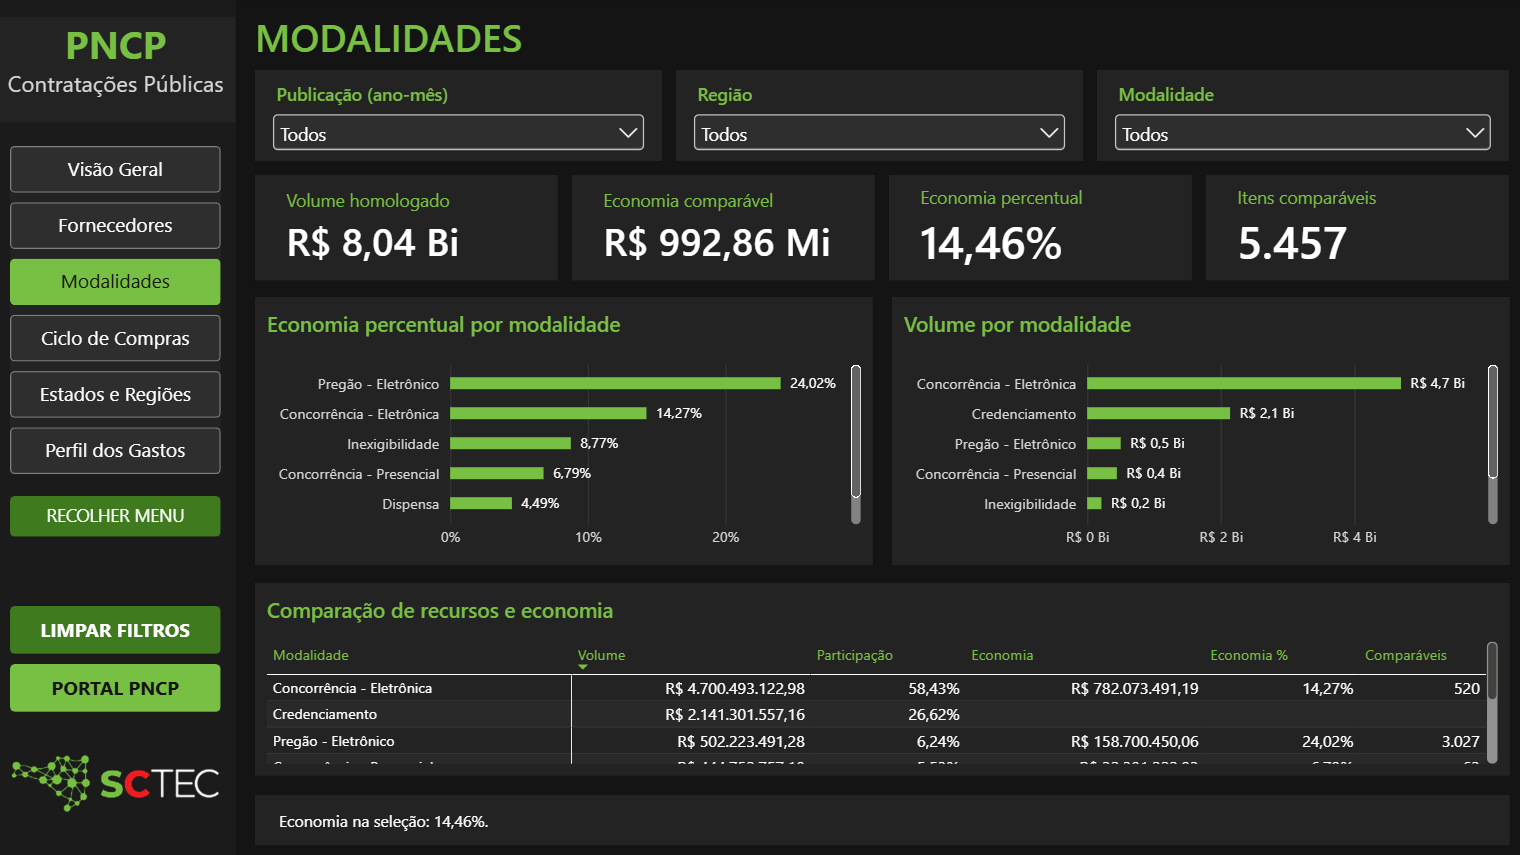

The page's visual inventory and layout, read from the dashboard file:
{"tool":"powerbi","page":{"name":"Modalidades","canvas":[1280,720],"ordinal":2},"visuals":[{"type":"shape","box":[0,0,200,720],"z":0},{"type":"textbox","box":[0,16,200,88],"z":1000},{"type":"pageNavigator","box":[12,124,176,274],"z":2000},{"type":"actionButton","box":[12,508,176,40],"z":3000},{"type":"image","box":[12,628,176,56],"z":4000},{"type":"actionButton","box":[12,556,176,40],"z":5000},{"type":"cardVisual","fields":{"Data":["Indicadores.Economia_nominal"]},"box":[481,148,253,88],"z":11000},{"type":"slicer","fields":{"Values":["Calendario.Ano_Mes"]},"box":[216,60,340,76],"z":12000},{"type":"slicer","fields":{"Values":["dim_localidade.regiao"]},"box":[568,60,340,76],"z":13000},{"type":"clusteredBarChart","title":"Volume por modalidade","fields":{"Category":["dim_modalidade.nome_modalidade"],"Y":["Indicadores.Volume_homologado"]},"box":[748,250,516,223.8],"z":15000},{"type":"cardVisual","fields":{"Data":["Indicadores.Volume_homologado"]},"box":[216,148,253,88],"z":16000},{"type":"pivotTable","title":"Comparação de recursos e economia","fields":{"Rows":["dim_modalidade.nome_modalidade"],"Values":["Indicadores.Volume_homologado","Indicadores.Participacao_modalidade","Indicadores.Economia_nominal","Indicadores.Economia_percentual","Indicadores.Itens_comparaveis"]},"box":[216,488.8,1048,161.2],"z":21000},{"type":"cardVisual","fields":{"Data":["Indicadores.Economia_percentual"]},"box":[746,148,253,88],"z":22000},{"type":"slicer","fields":{"Values":["dim_modalidade.nome_modalidade"]},"box":[920,60,344,76],"z":23000},{"type":"cardVisual","fields":{"Data":["Indicadores.Itens_comparaveis"]},"box":[1011,148,253,88],"z":25000},{"type":"cardVisual","fields":{"Data":["Indicadores.Leitura_modalidades"]},"box":[216,666,1048,42],"z":26000},{"type":"clusteredBarChart","title":"Economia percentual por modalidade","fields":{"Category":["dim_modalidade.nome_modalidade"],"Y":["Indicadores.Economia_percentual"]},"box":[216,250,516,223.8],"z":27000},{"type":"textbox","box":[216,10,1048,44],"z":28000},{"type":"actionButton","box":[12,416,176,34],"z":31000}]}

Visuals, with their boxes on the page's 1280x720 design canvas (x1, y1, x2, y2). These are canvas units, not pixel positions in the 1520x855 screenshot, which may show the page scaled, cropped or inside an application window:
shape: [0, 0, 200, 720]
textbox: [0, 16, 200, 104]
pageNavigator: [12, 124, 188, 398]
actionButton: [12, 508, 188, 548]
image: [12, 628, 188, 684]
actionButton: [12, 556, 188, 596]
cardVisual - Indicadores.Economia_nominal: [481, 148, 734, 236]
slicer - Calendario.Ano_Mes: [216, 60, 556, 136]
slicer - dim_localidade.regiao: [568, 60, 908, 136]
"Volume por modalidade" clusteredBarChart: [748, 250, 1264, 474]
cardVisual - Indicadores.Volume_homologado: [216, 148, 469, 236]
"Comparação de recursos e economia" pivotTable: [216, 489, 1264, 650]
cardVisual - Indicadores.Economia_percentual: [746, 148, 999, 236]
slicer - dim_modalidade.nome_modalidade: [920, 60, 1264, 136]
cardVisual - Indicadores.Itens_comparaveis: [1011, 148, 1264, 236]
cardVisual - Indicadores.Leitura_modalidades: [216, 666, 1264, 708]
"Economia percentual por modalidade" clusteredBarChart: [216, 250, 732, 474]
textbox: [216, 10, 1264, 54]
actionButton: [12, 416, 188, 450]
